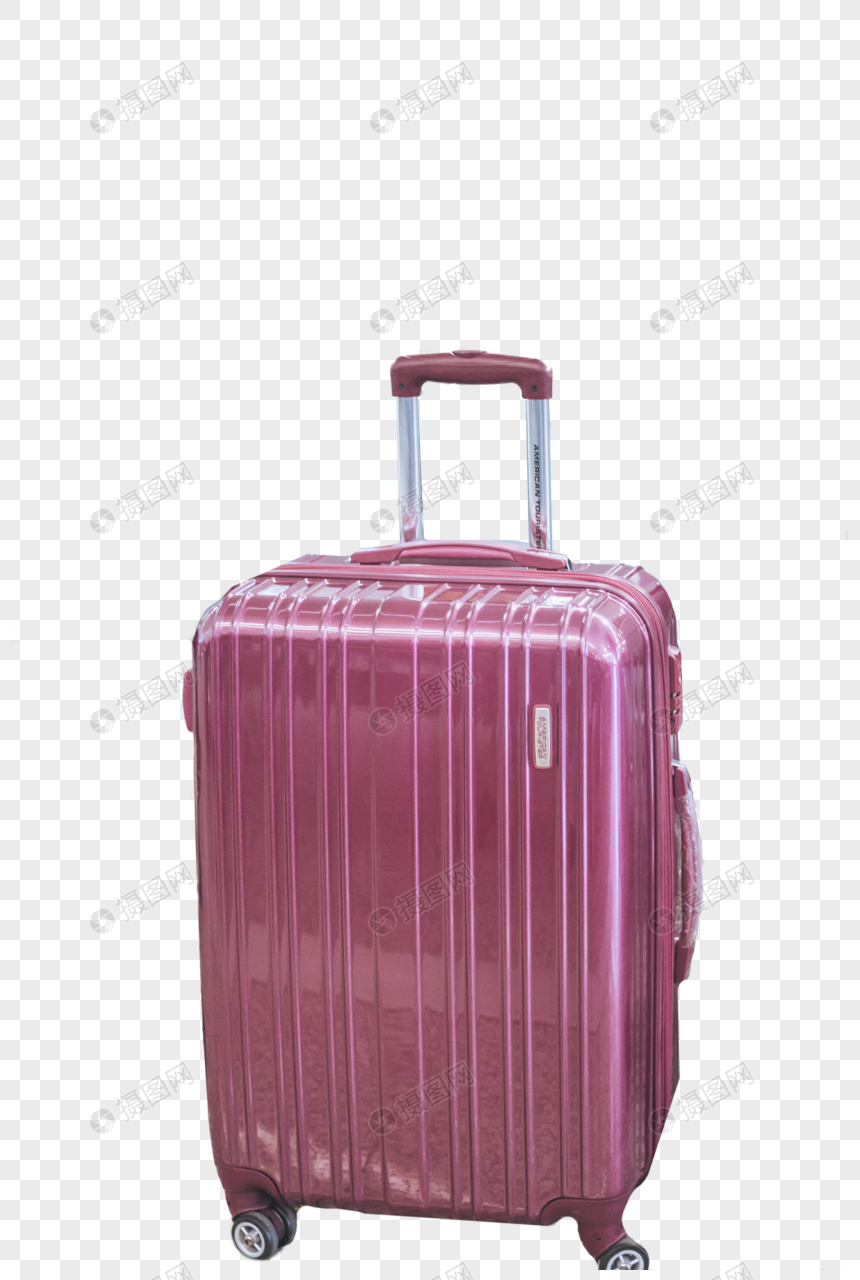box: (193, 555, 680, 1227)
handle: (349, 538, 570, 572), (672, 759, 702, 985)
wheel: (231, 1202, 297, 1259), (596, 1236, 649, 1269)
